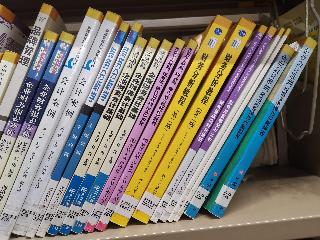book-spine: (110, 13, 232, 229), (132, 16, 257, 224), (10, 9, 122, 237), (33, 19, 144, 239), (150, 24, 269, 225), (0, 7, 102, 240), (23, 20, 130, 238), (173, 27, 292, 223), (158, 26, 276, 223), (167, 27, 284, 225), (44, 35, 148, 236), (58, 36, 161, 236), (70, 38, 173, 236), (83, 39, 186, 235), (95, 38, 199, 231), (210, 35, 317, 220), (186, 43, 296, 220), (0, 29, 76, 215), (0, 29, 59, 180), (0, 2, 54, 140)
